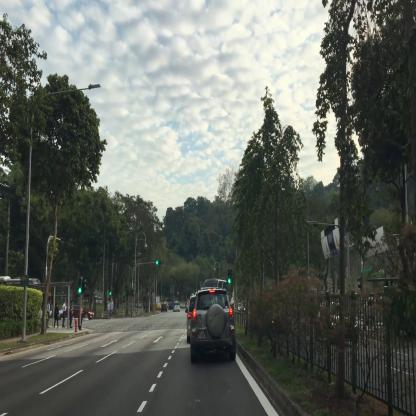green_traffic_light: (78, 278, 81, 292), (228, 269, 231, 283), (156, 260, 162, 265)
